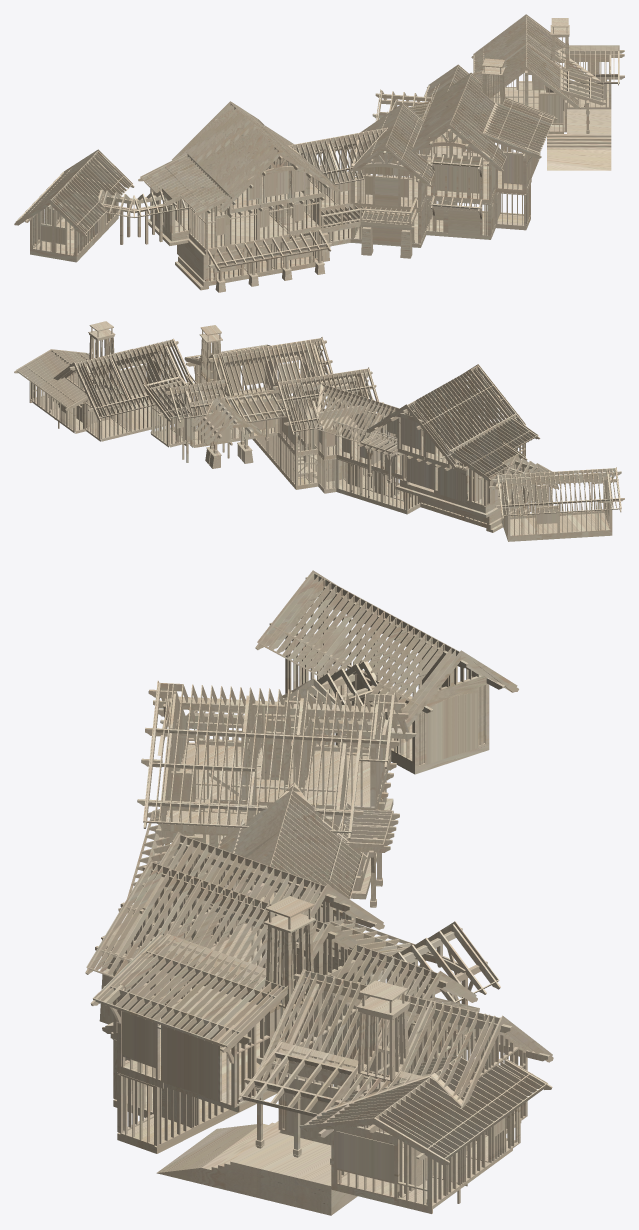
The model's file is House.glb.
3 views of the same model, one above another, from view 1: azimuth 30°, elevation 25°; view 2: azimuth 150°, elevation 25°; view 3: azimuth 270°, elevation 25° (orthographic). The views are drawn at different scales.
Parts seen in each view (by area): view 1: Shape_IndexedFaceSet019, Shape_IndexedFaceSet016, Shape_IndexedFaceSet007, Shape_IndexedFaceSet005, Shape_IndexedFaceSet013, Shape_IndexedFaceSet014, glass0_IndexedFaceSet, Shape_IndexedFaceSet015, Shape_IndexedFaceSet012, Shape_IndexedFaceSet004, Shape_IndexedFaceSet034, Shape_IndexedFaceSet009 (+17 smaller); view 2: Shape_IndexedFaceSet016, glass0_IndexedFaceSet, Shape_IndexedFaceSet018, Shape_IndexedFaceSet019, Shape_IndexedFaceSet014, Shape_IndexedFaceSet007, Shape_IndexedFaceSet034, Shape_IndexedFaceSet005, Shape_IndexedFaceSet009, A1_IndexedFaceSet, Shape_IndexedFaceSet004, Shape_IndexedFaceSet (+12 smaller); view 3: Shape_IndexedFaceSet007, Shape_IndexedFaceSet013, Shape_IndexedFaceSet009, A1_IndexedFaceSet, Shape_IndexedFaceSet019, Shape_IndexedFaceSet016, glass0_IndexedFaceSet, Shape_IndexedFaceSet034, A2_IndexedFaceSet, Shape_IndexedFaceSet018, Shape_IndexedFaceSet015, Shape_IndexedFaceSet014 (+11 smaller).
Part boxes in pixels (x1,y1,x2,y2): Shape_IndexedFaceSet019: (30,109,611,290); Shape_IndexedFaceSet016: (31,102,339,256); Shape_IndexedFaceSet007: (449,15,618,171); Shape_IndexedFaceSet005: (101,55,610,282); Shape_IndexedFaceSet013: (14,99,557,232); Shape_IndexedFaceSet014: (25,131,523,257); glass0_IndexedFaceSet: (41,79,605,243); Shape_IndexedFaceSet015: (50,104,433,281); Shape_IndexedFaceSet012: (15,14,619,268); Shape_IndexedFaceSet004: (145,110,498,269); Shape_IndexedFaceSet034: (29,16,617,265); Shape_IndexedFaceSet009: (269,46,611,214); Shape_IndexedFaceSet016: (366,365,618,527); glass0_IndexedFaceSet: (61,358,609,534); Shape_IndexedFaceSet018: (29,347,519,510); Shape_IndexedFaceSet019: (97,382,612,541); Shape_IndexedFaceSet014: (158,344,624,536); Shape_IndexedFaceSet007: (14,339,306,421); Shape_IndexedFaceSet034: (25,338,618,506); Shape_IndexedFaceSet005: (33,338,552,511); Shape_IndexedFaceSet009: (38,345,483,484); A1_IndexedFaceSet: (48,338,485,495); Shape_IndexedFaceSet004: (295,409,539,524); Shape_IndexedFaceSet: (69,340,621,486); Shape_IndexedFaceSet007: (85,862,553,1164); Shape_IndexedFaceSet013: (91,575,549,1115); Shape_IndexedFaceSet009: (103,698,542,1182); A1_IndexedFaceSet: (102,695,525,1197); Shape_IndexedFaceSet019: (113,682,489,1215); Shape_IndexedFaceSet016: (143,589,484,872); glass0_IndexedFaceSet: (122,629,504,1181); Shape_IndexedFaceSet034: (101,573,529,1213); A2_IndexedFaceSet: (117,661,525,1183); Shape_IndexedFaceSet018: (113,689,532,1206); Shape_IndexedFaceSet015: (118,572,460,929); Shape_IndexedFaceSet014: (116,626,504,1060).
Size of the model in its own units: 5.7 by 1.16 by 1.97.
1 material, 1 textured.
